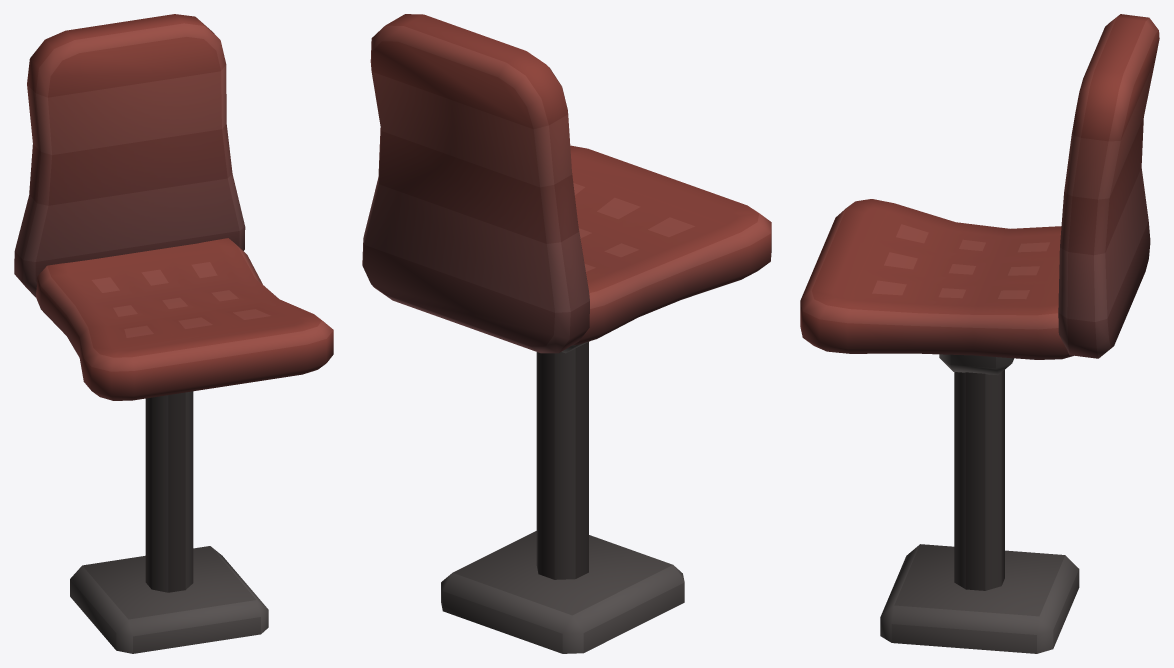
The model's file is PokerChair.fbx.
The picture shows the model from 3 angles, left to right: view 1: azimuth 30°, elevation 25°; view 2: azimuth 150°, elevation 25°; view 3: azimuth 270°, elevation 25°; orthographic projection. The views are drawn at different scales.
Parts seen in each view (by area): view 1: PokerChair; view 2: PokerChair; view 3: PokerChair.
Part boxes in pixels (<box>): PokerChair: <box>14,14,333,653</box>; PokerChair: <box>362,14,771,653</box>; PokerChair: <box>800,14,1159,653</box>.
Bounding box in the file's own units: 51.77 × 106 × 59.58.
